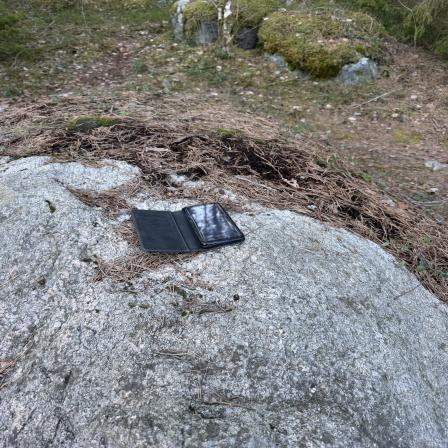phone: (133, 204, 247, 255)
